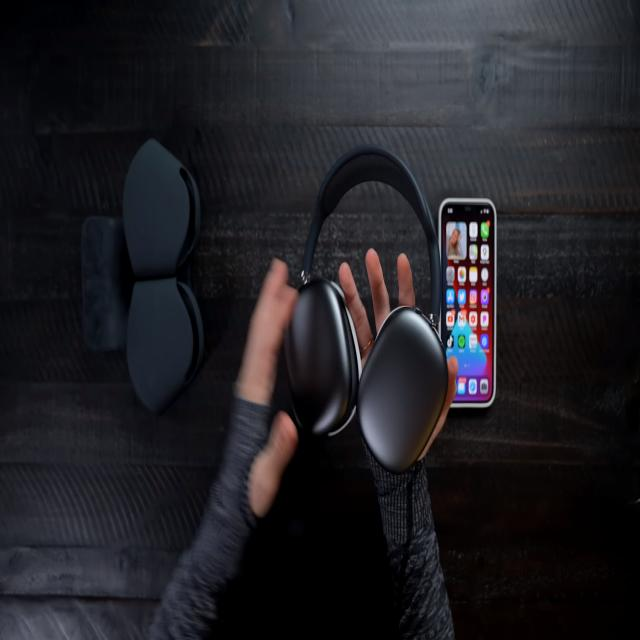Headphone: (280, 141, 450, 479)
